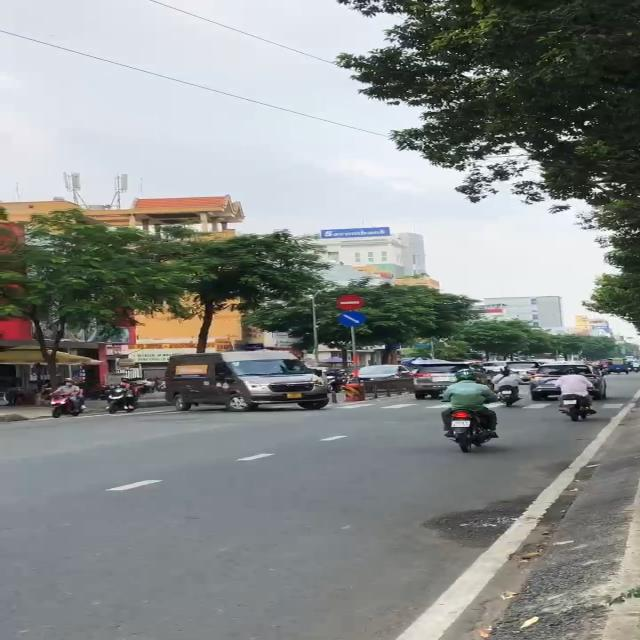Bien bao cam di nguoc chieu: (333, 293, 367, 311)
Bien bao huong phai di vong chuong ngai vat: (334, 311, 372, 327)
